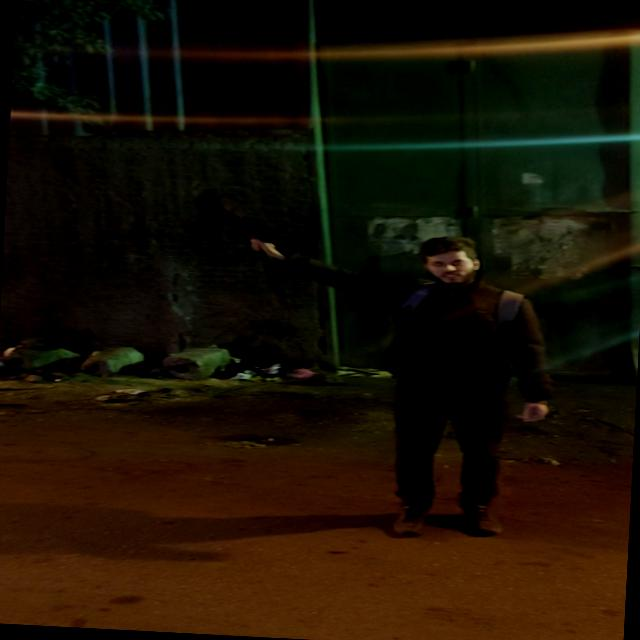long weapon: (166, 182, 314, 269)
